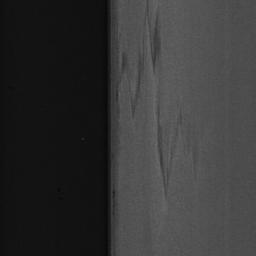Silk spot: (156, 77, 183, 202), (129, 35, 147, 120), (144, 0, 162, 75), (183, 123, 198, 180), (174, 101, 187, 136), (142, 207, 153, 244), (142, 110, 148, 137), (122, 53, 128, 73), (142, 183, 150, 196)
